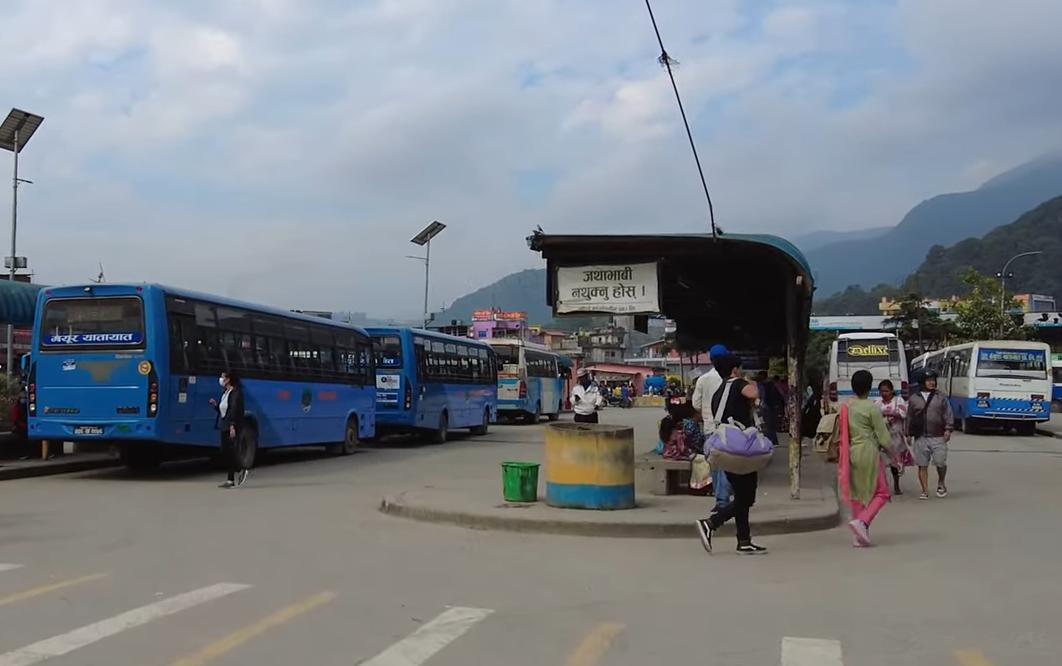bus: (22, 264, 379, 470), (352, 320, 503, 439), (936, 332, 1062, 442)
